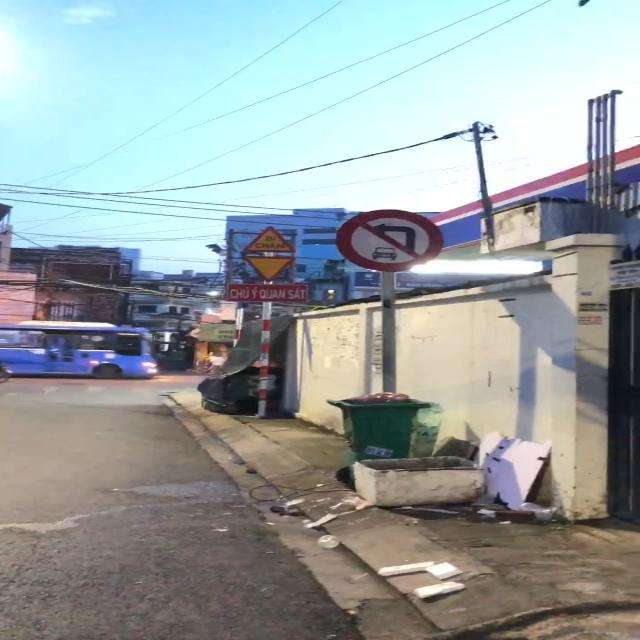Bien bao cam xe o to re trai: (336, 208, 444, 274)
Bien bao di cham: (240, 223, 298, 256)
Bien bao giao nhau voi duong uu tien: (240, 253, 300, 283)
